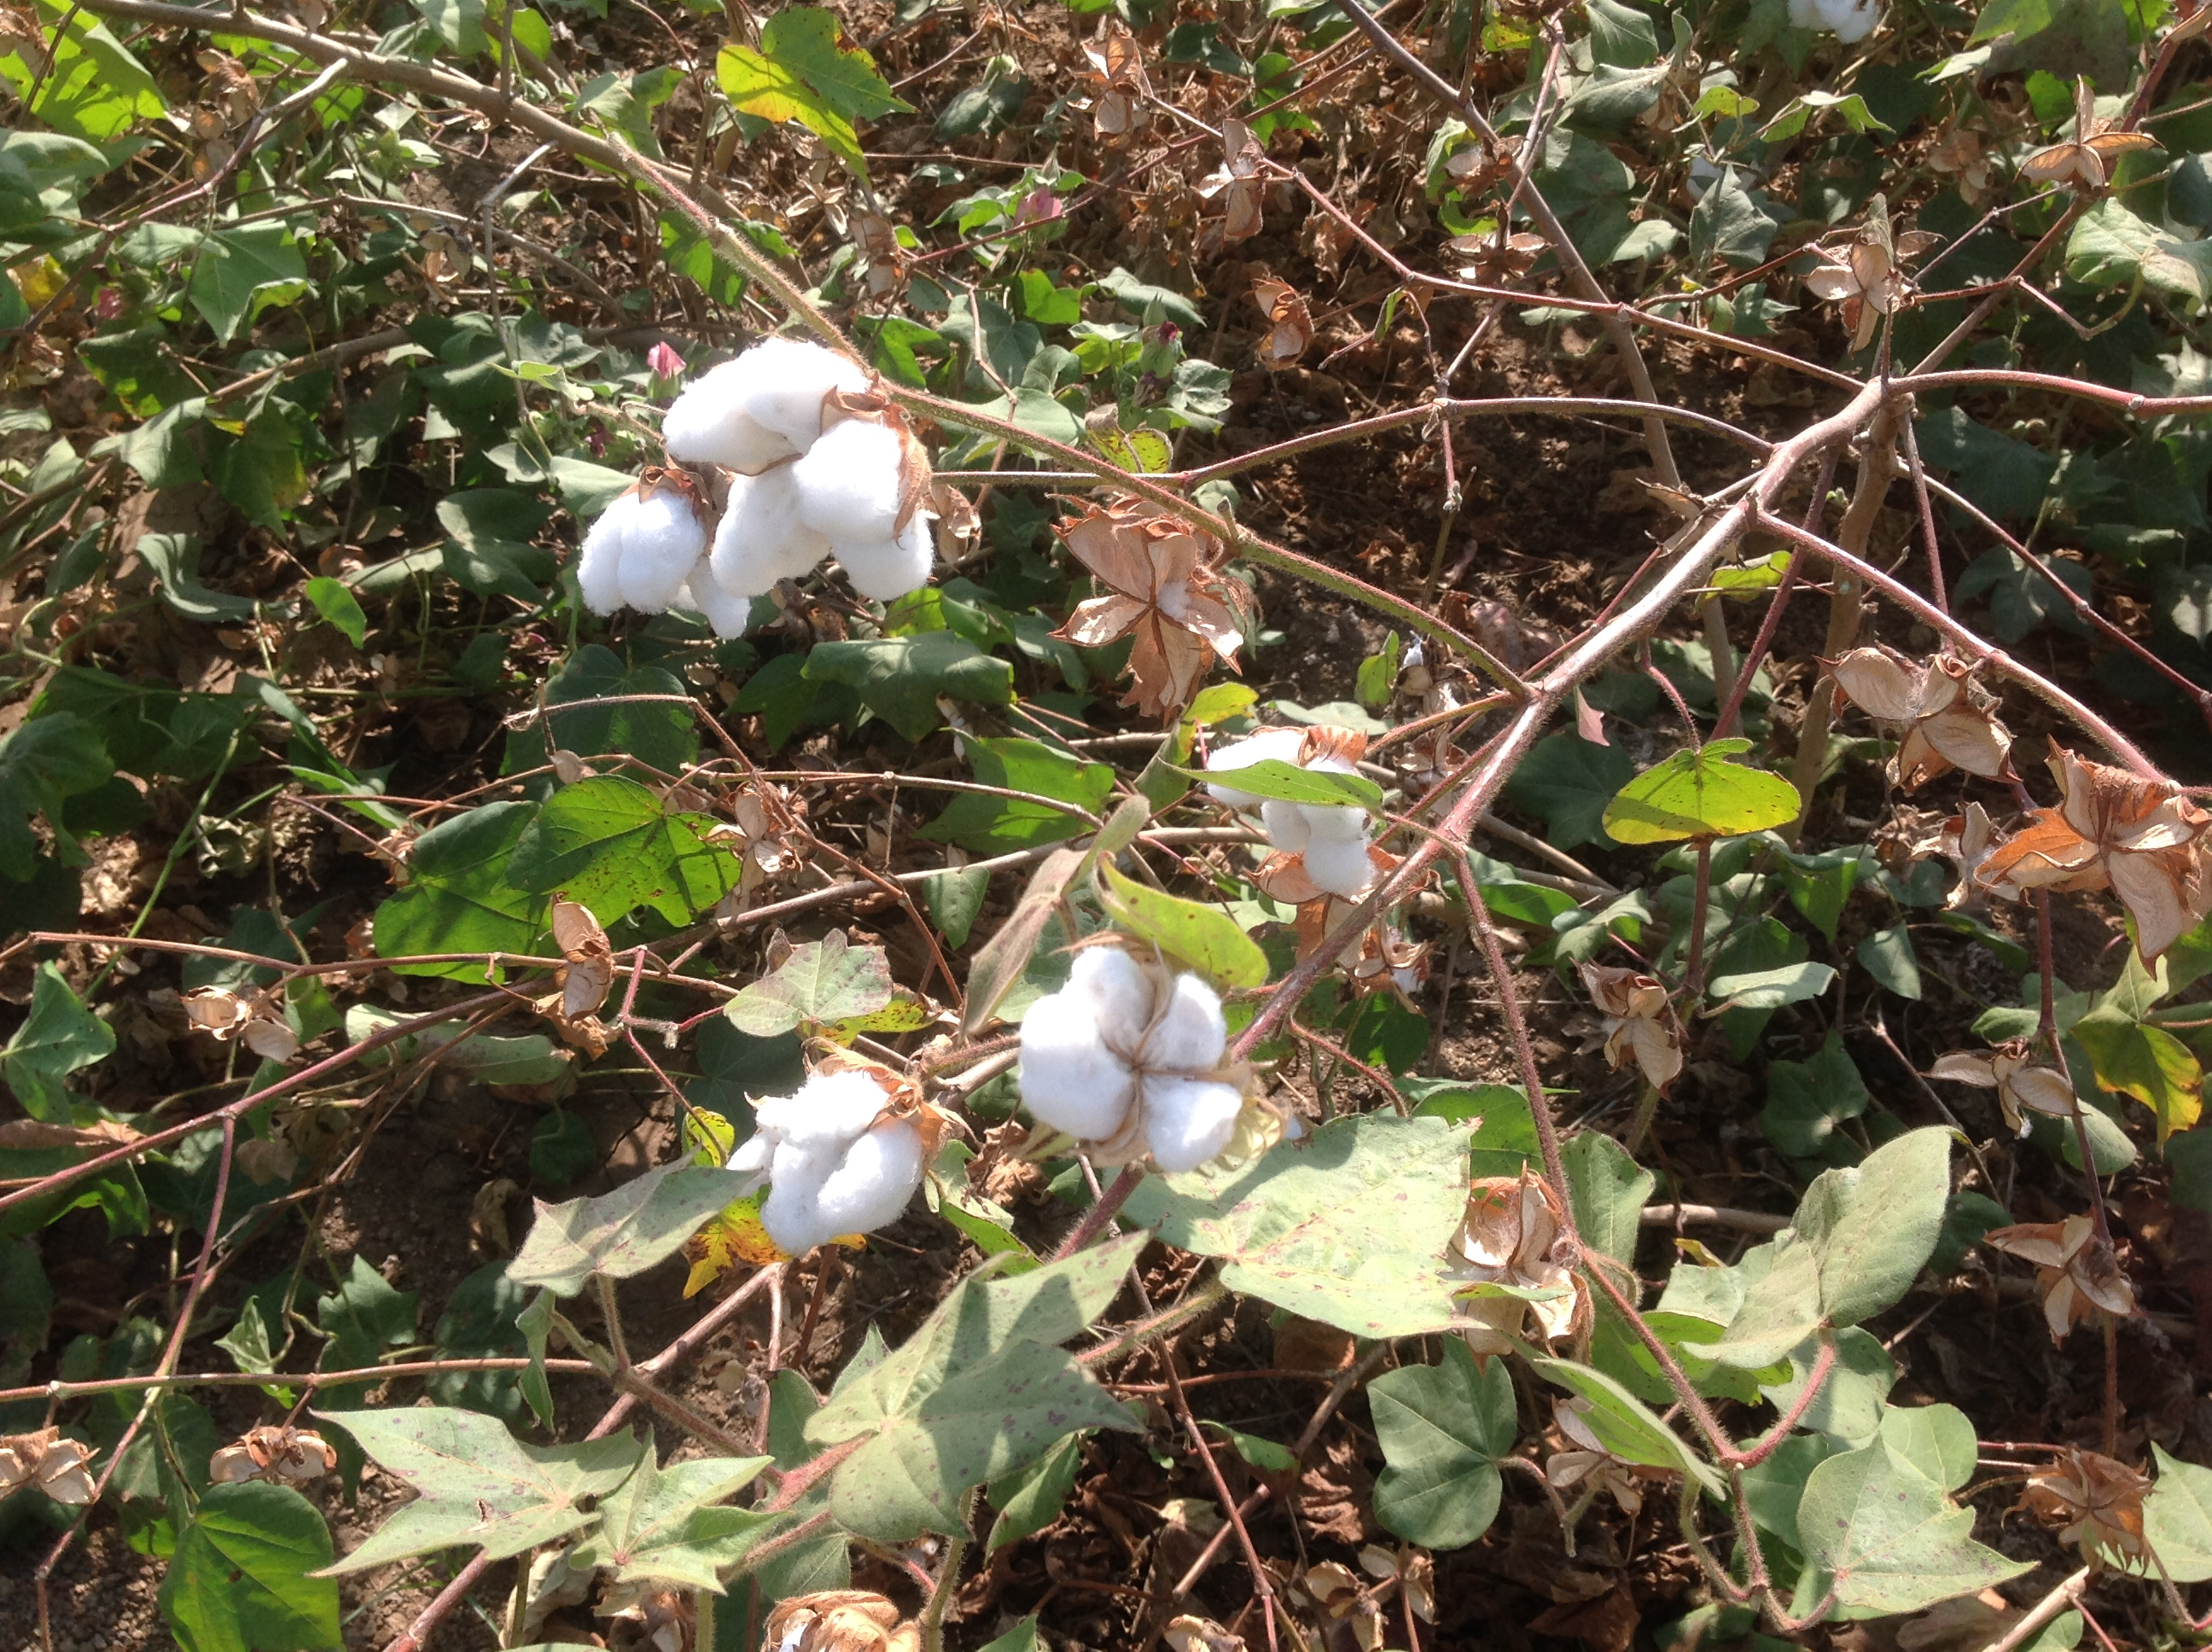cotton: (663, 331, 932, 588), (1013, 937, 1277, 1194), (746, 1053, 947, 1258), (1206, 713, 1407, 909), (578, 456, 753, 673), (1780, 2, 1907, 45)
